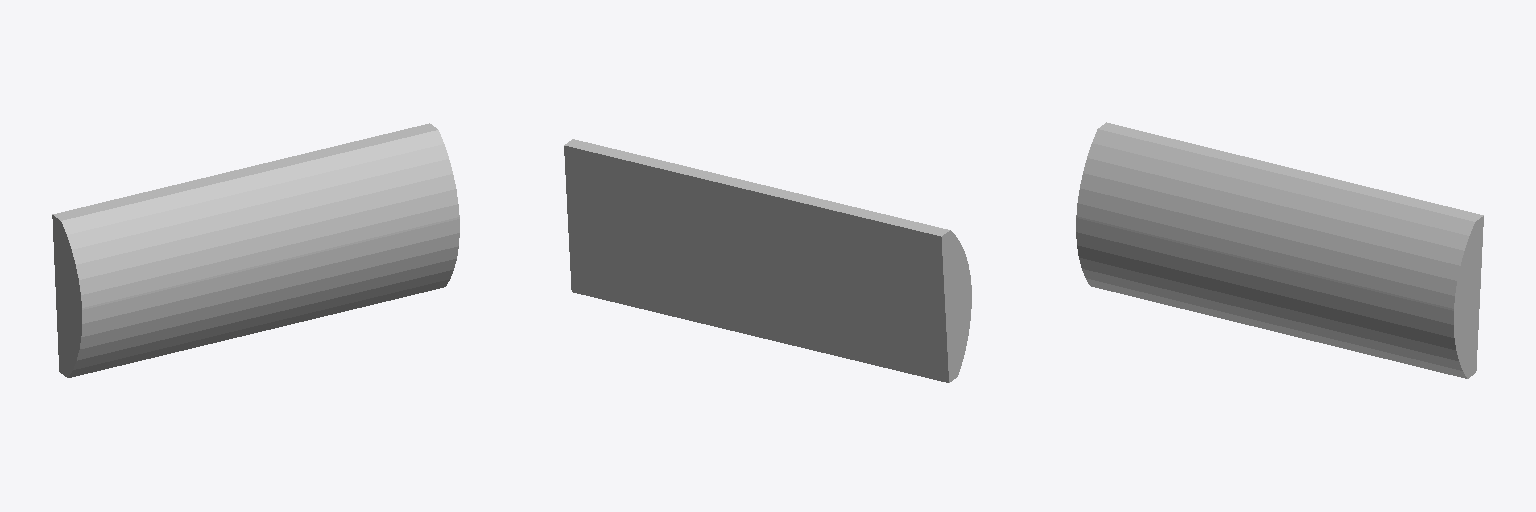
Rendered from original-56.obj.
3 views of the same model, side by side, from view 1: azimuth 30°, elevation 25°; view 2: azimuth 150°, elevation 25°; view 3: azimuth 330°, elevation 25° (orthographic).
Visible parts, largest first — view 1: group_24/ID340#ID340; view 2: group_24/ID340#ID340; view 3: group_24/ID340#ID340.
Boxes of the visible parts, <box> form: group_24/ID340#ID340: <box>52,123,459,377</box>; group_24/ID340#ID340: <box>564,139,971,382</box>; group_24/ID340#ID340: <box>1076,122,1483,378</box>.
Size of the model in its own units: 0.0596 by 0.023 by 0.0083.